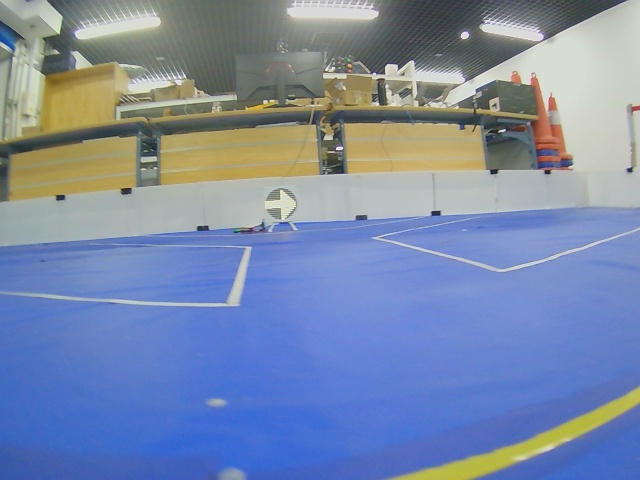right_yellow: (264, 188, 297, 220)
